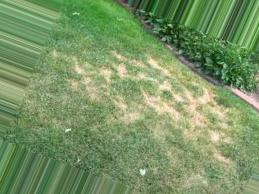patch: (190, 87, 224, 138), (65, 71, 106, 98), (143, 93, 182, 120), (117, 63, 131, 77)
